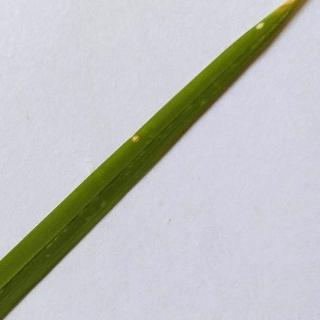Blast: (253, 22, 270, 34), (132, 132, 144, 146)
